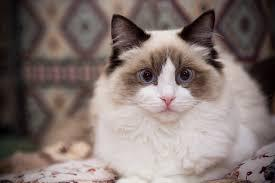ragdoll: (101, 1, 226, 133)
